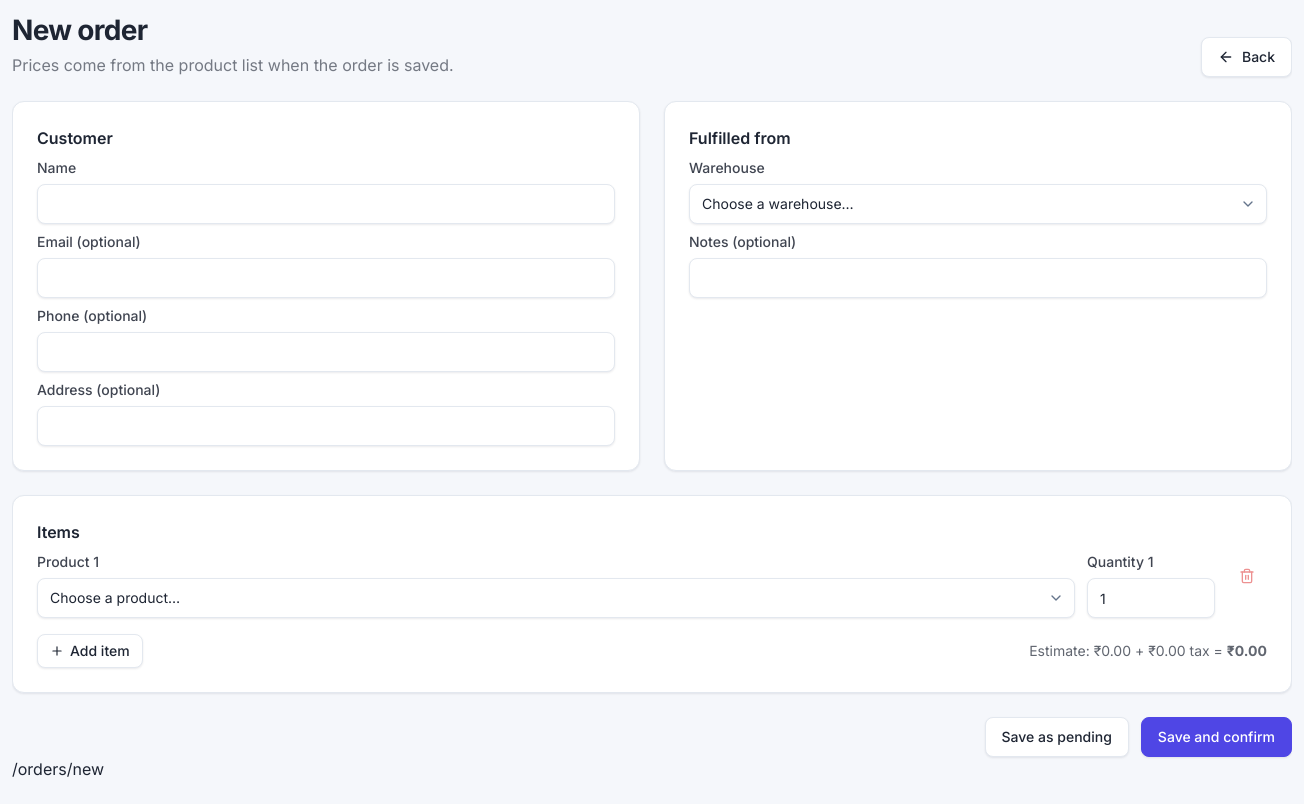
it: OrderFormPage — new order › rejects a bad email and phone
Type "Priya Sharma" into the field labelled "Name" at {"x": 326, "y": 204}, box [37,184,615,224]
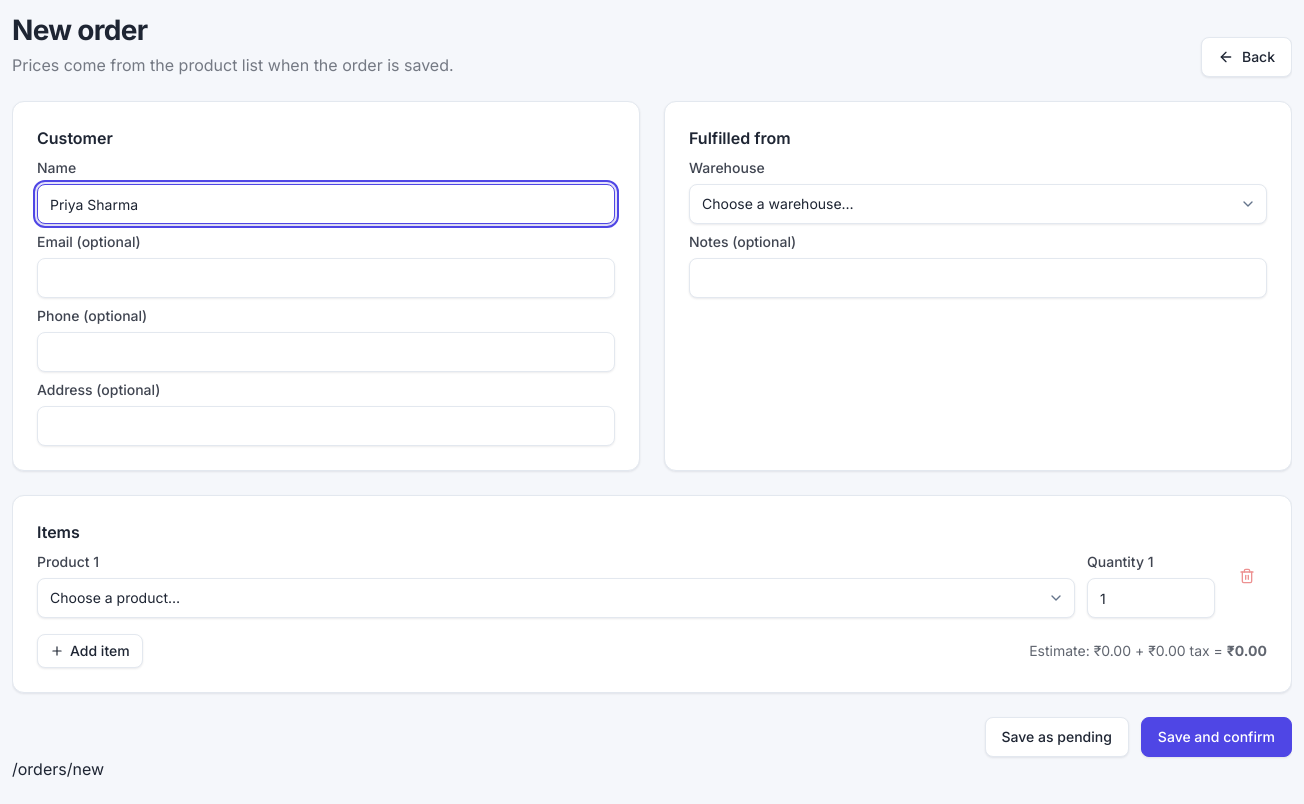
Select "Delhi Central (DEL-01)" in the dropdown labelled "Warehouse" at {"x": 978, "y": 204}, box [689,184,1267,224]
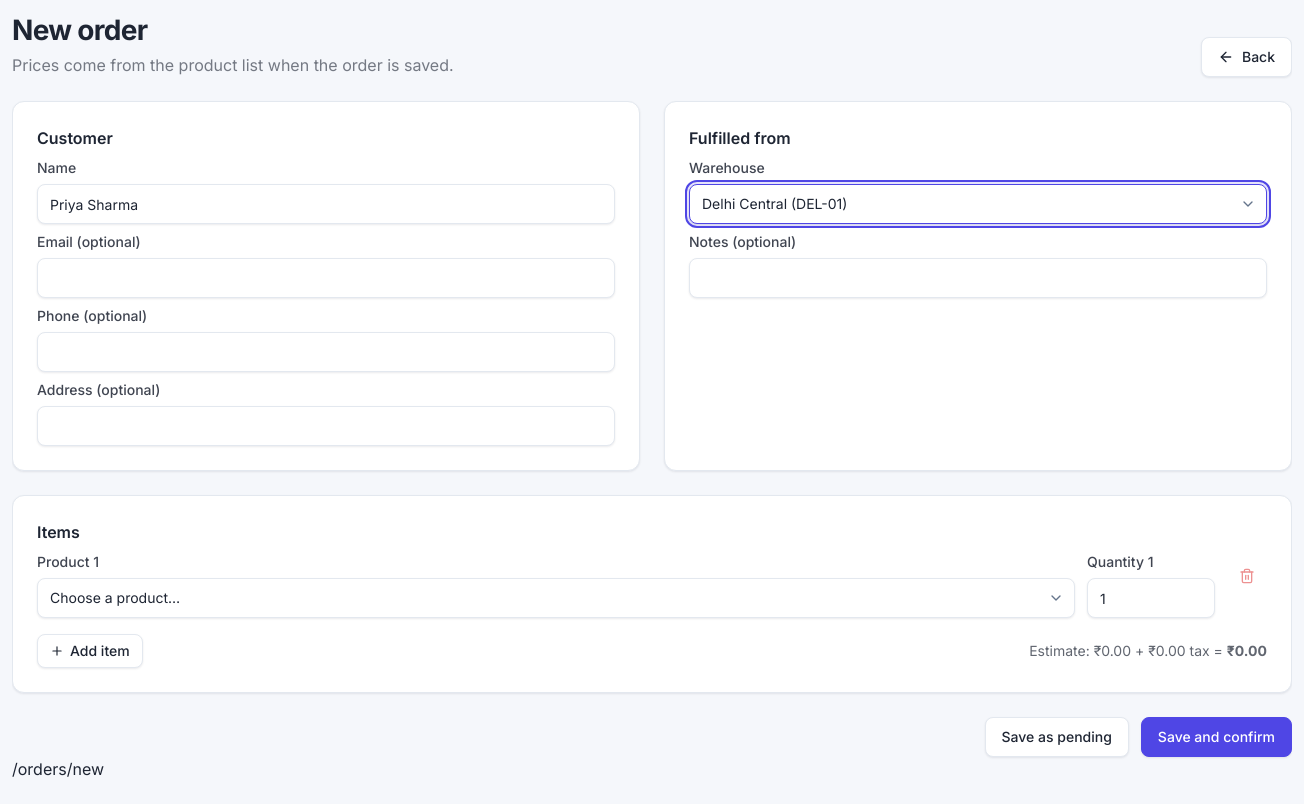
Select "Laptop Pro (LAP-001) — ₹1,000.00" in the dropdown labelled "Product 1" at {"x": 556, "y": 598}, box [37,578,1075,618]
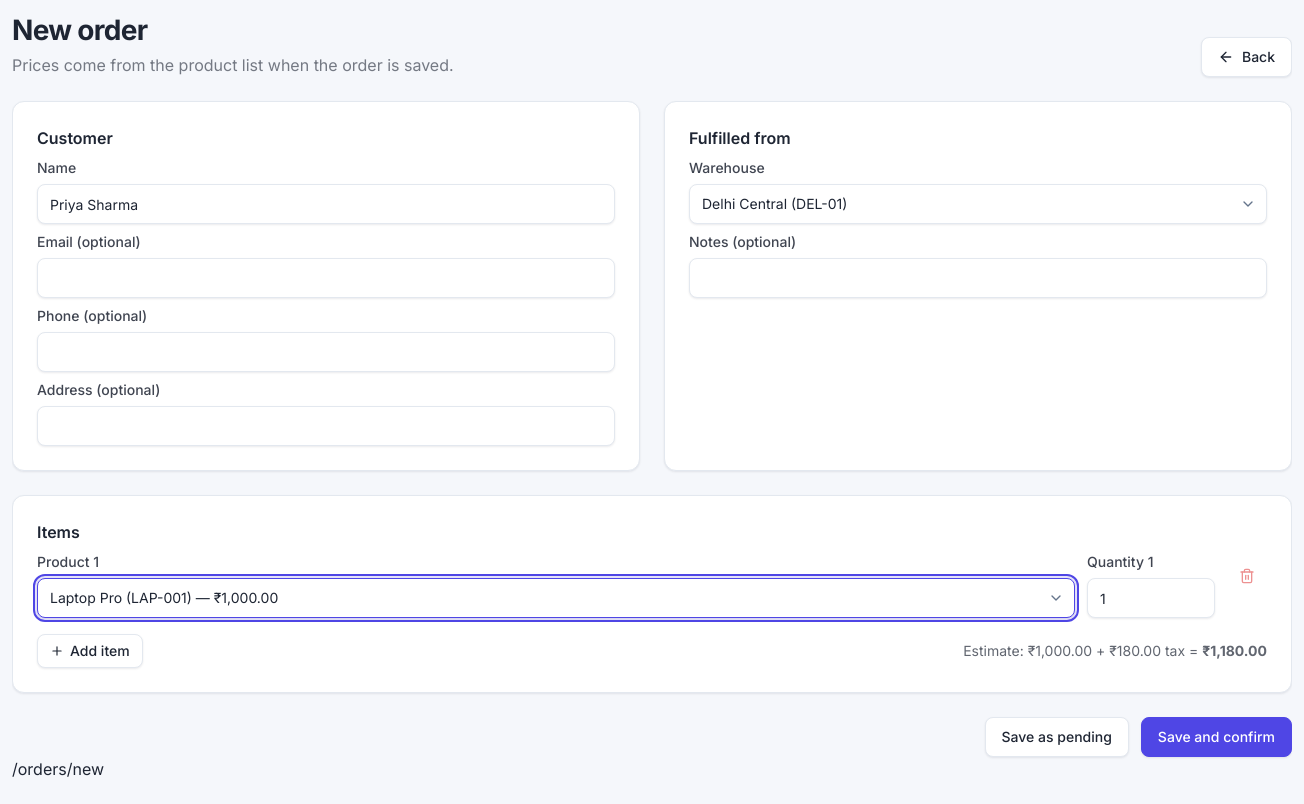
Type "not-an-email" into the field labelled "Email (optional)" at {"x": 326, "y": 278}, box [37,258,615,298]
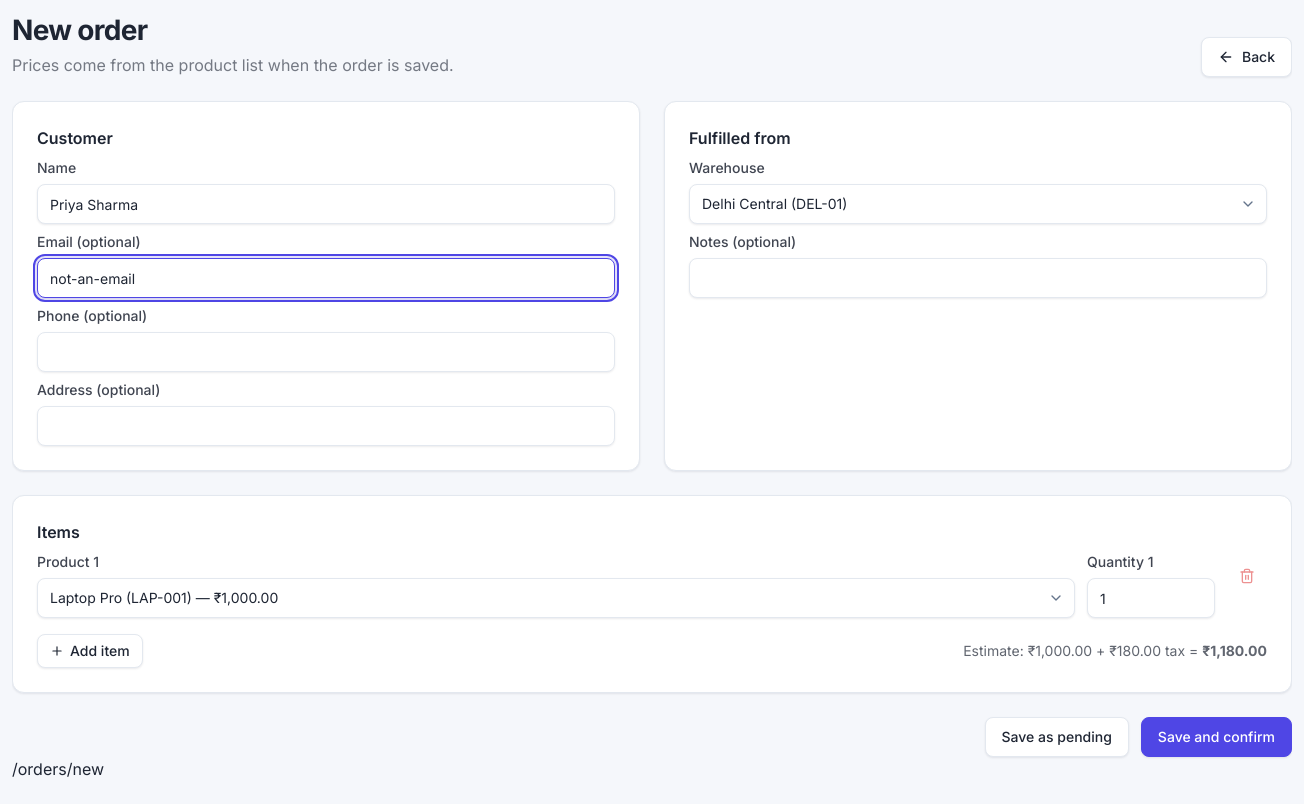
Type "abc" into the field labelled "Phone (optional)" at {"x": 326, "y": 352}, box [37,332,615,372]
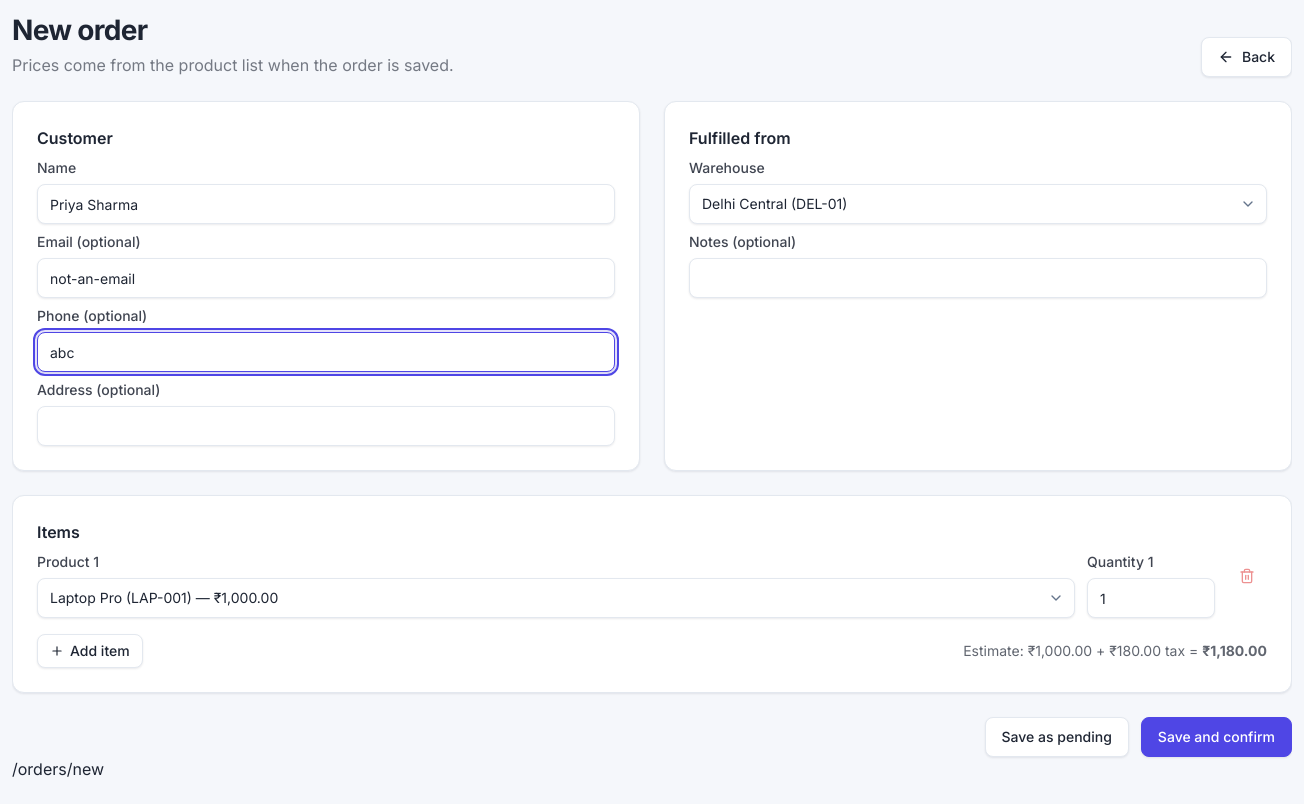
Click the button "Save as pending" at {"x": 1057, "y": 737}, box [984,717,1129,757]
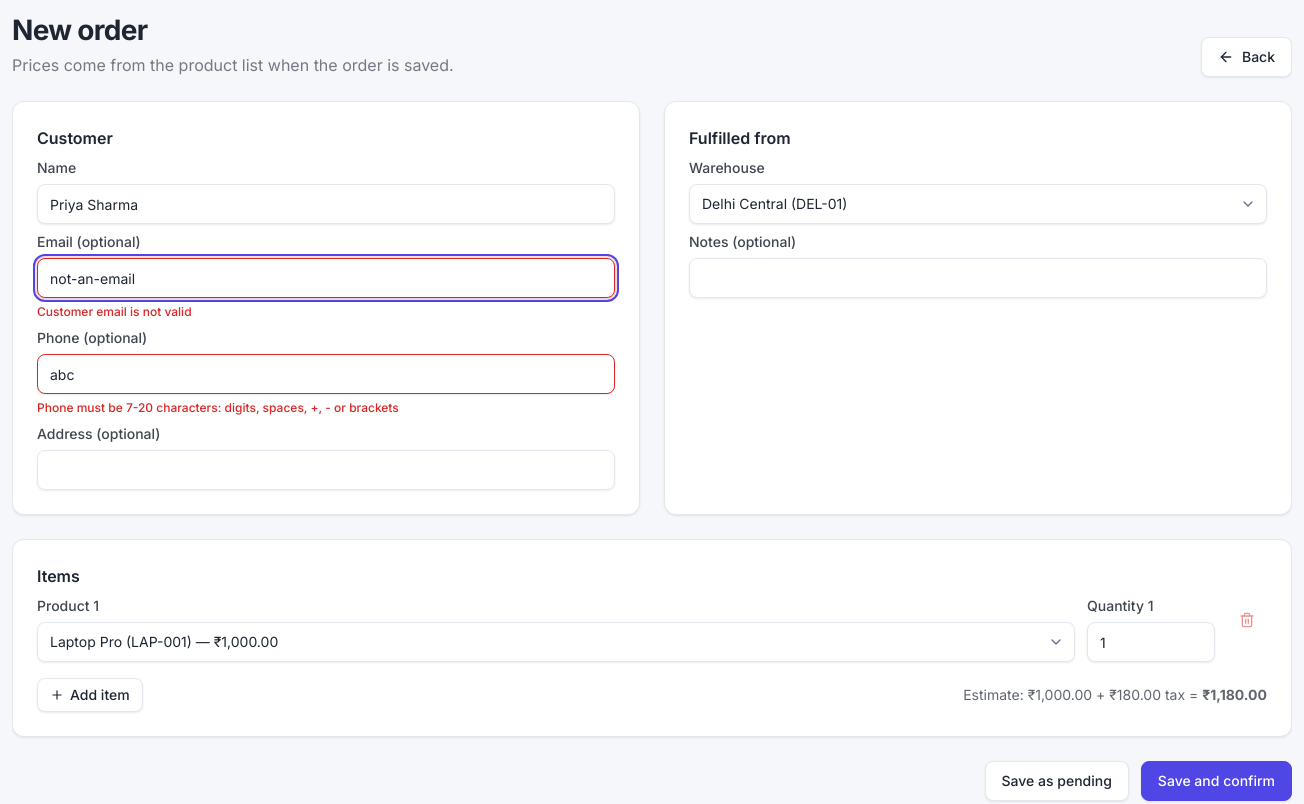
Check: the text "Customer email is not valid" is shown, box [37,304,192,319]
Check: the text "Phone must be 7-20 characters" is shown, box [37,400,399,415]
